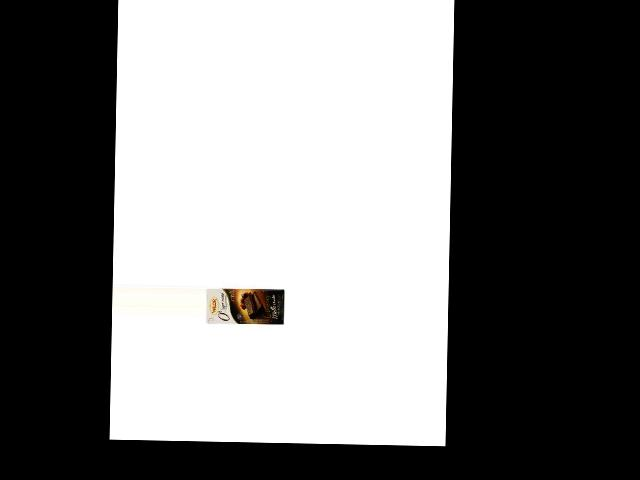chocolate: (205, 286, 285, 327)
